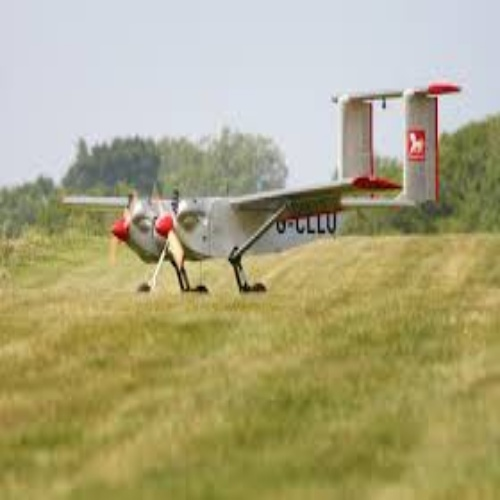uav: (62, 82, 462, 294)
